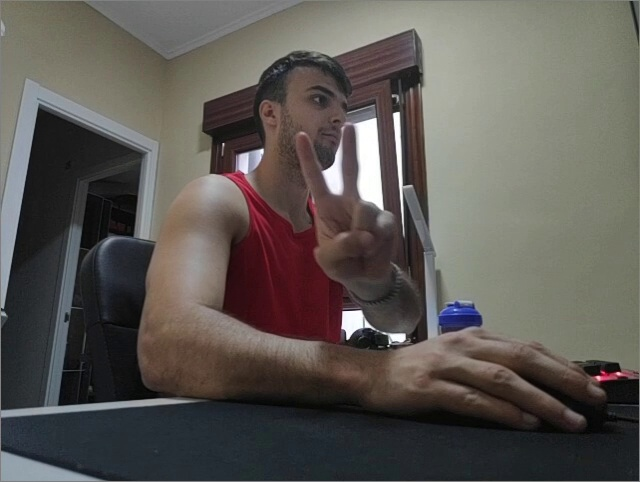Peace: (295, 121, 397, 286)
